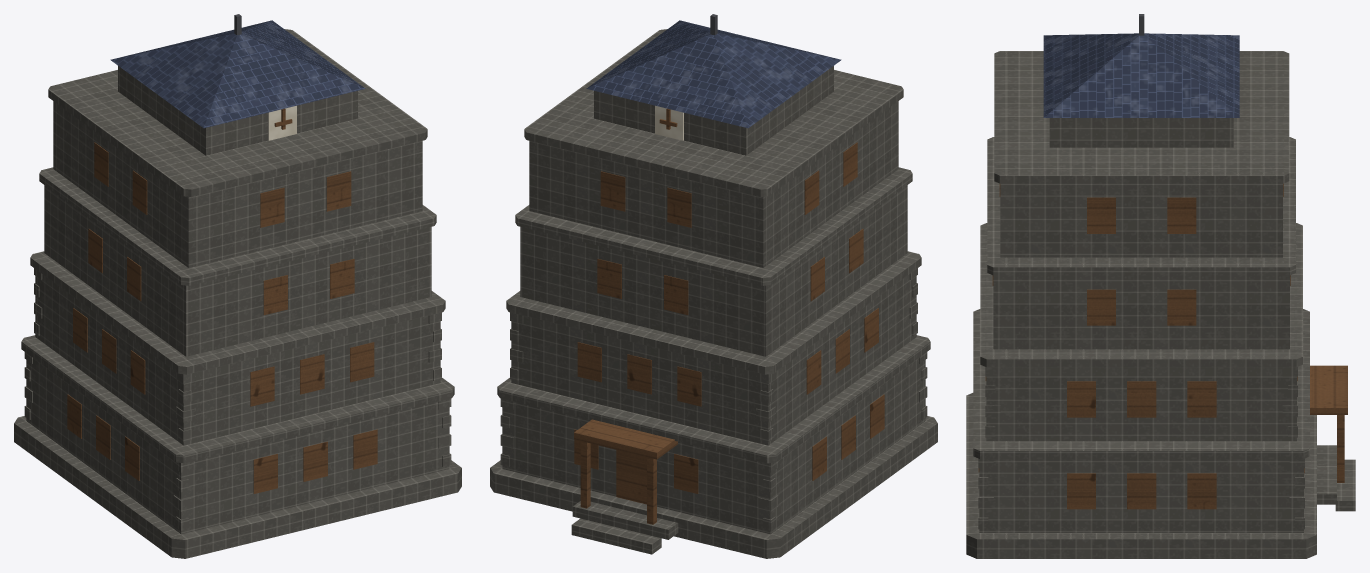
The model's file is townhall.gltf.
3 renders of one model, left to right at view 1: azimuth 30°, elevation 25°; view 2: azimuth 150°, elevation 25°; view 3: azimuth 270°, elevation 25°, orthographic. The views are drawn at different scales.
Parts seen in each view (by area): view 1: townhall; view 2: townhall; view 3: townhall.
Part boxes in pixels (x1,y1,x2,y2): townhall: [14, 14, 461, 558]; townhall: [490, 14, 937, 558]; townhall: [966, 14, 1355, 558].
Bounding box in the file's own units: 4.54 × 6.8 × 5.04.
8 materials, 6 textured.
